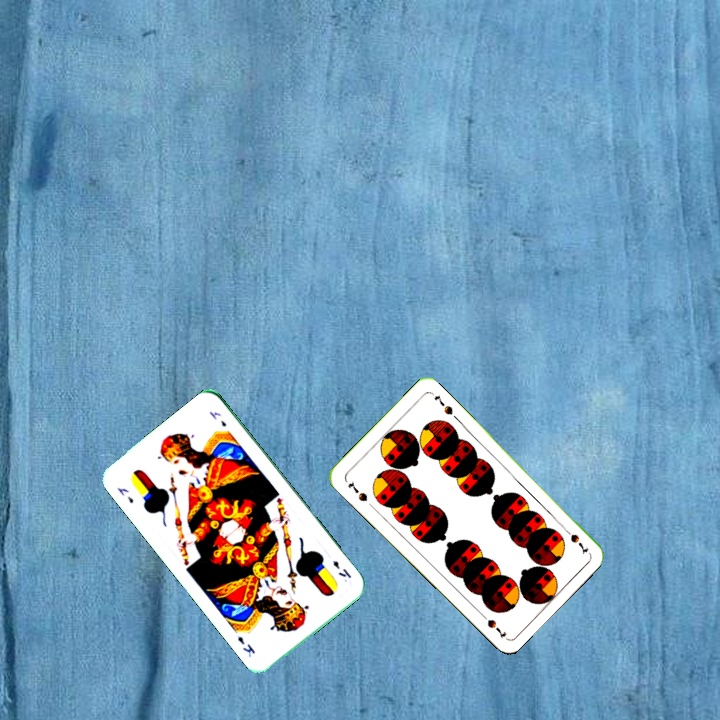EK: (328, 556, 354, 581), (113, 483, 136, 506)
S7: (559, 523, 591, 557), (344, 477, 370, 504)
